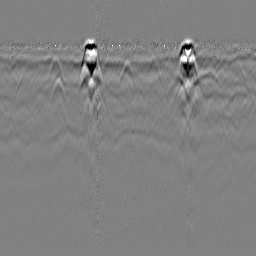cavity: (118, 57, 134, 81)
